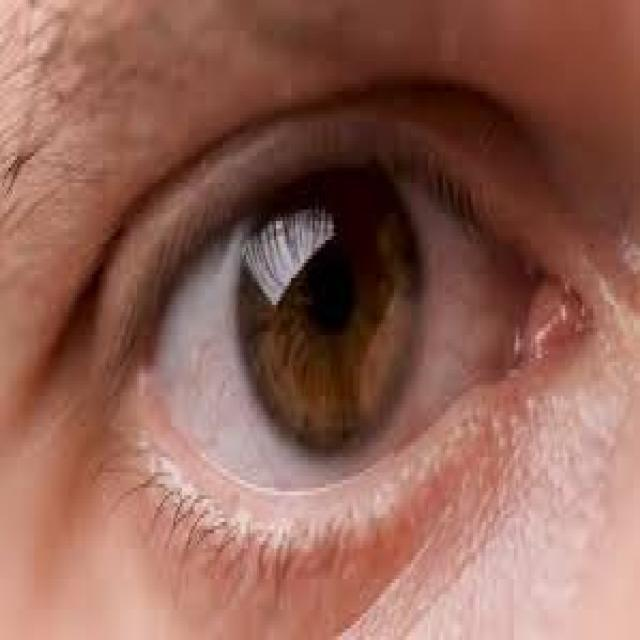Normal: (13, 66, 627, 636)
